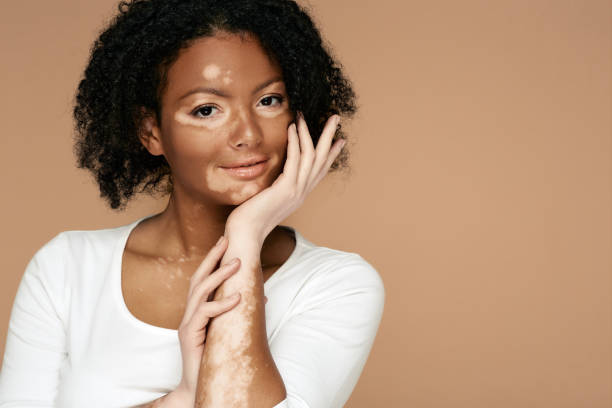Vitiligo: (172, 56, 301, 199)
